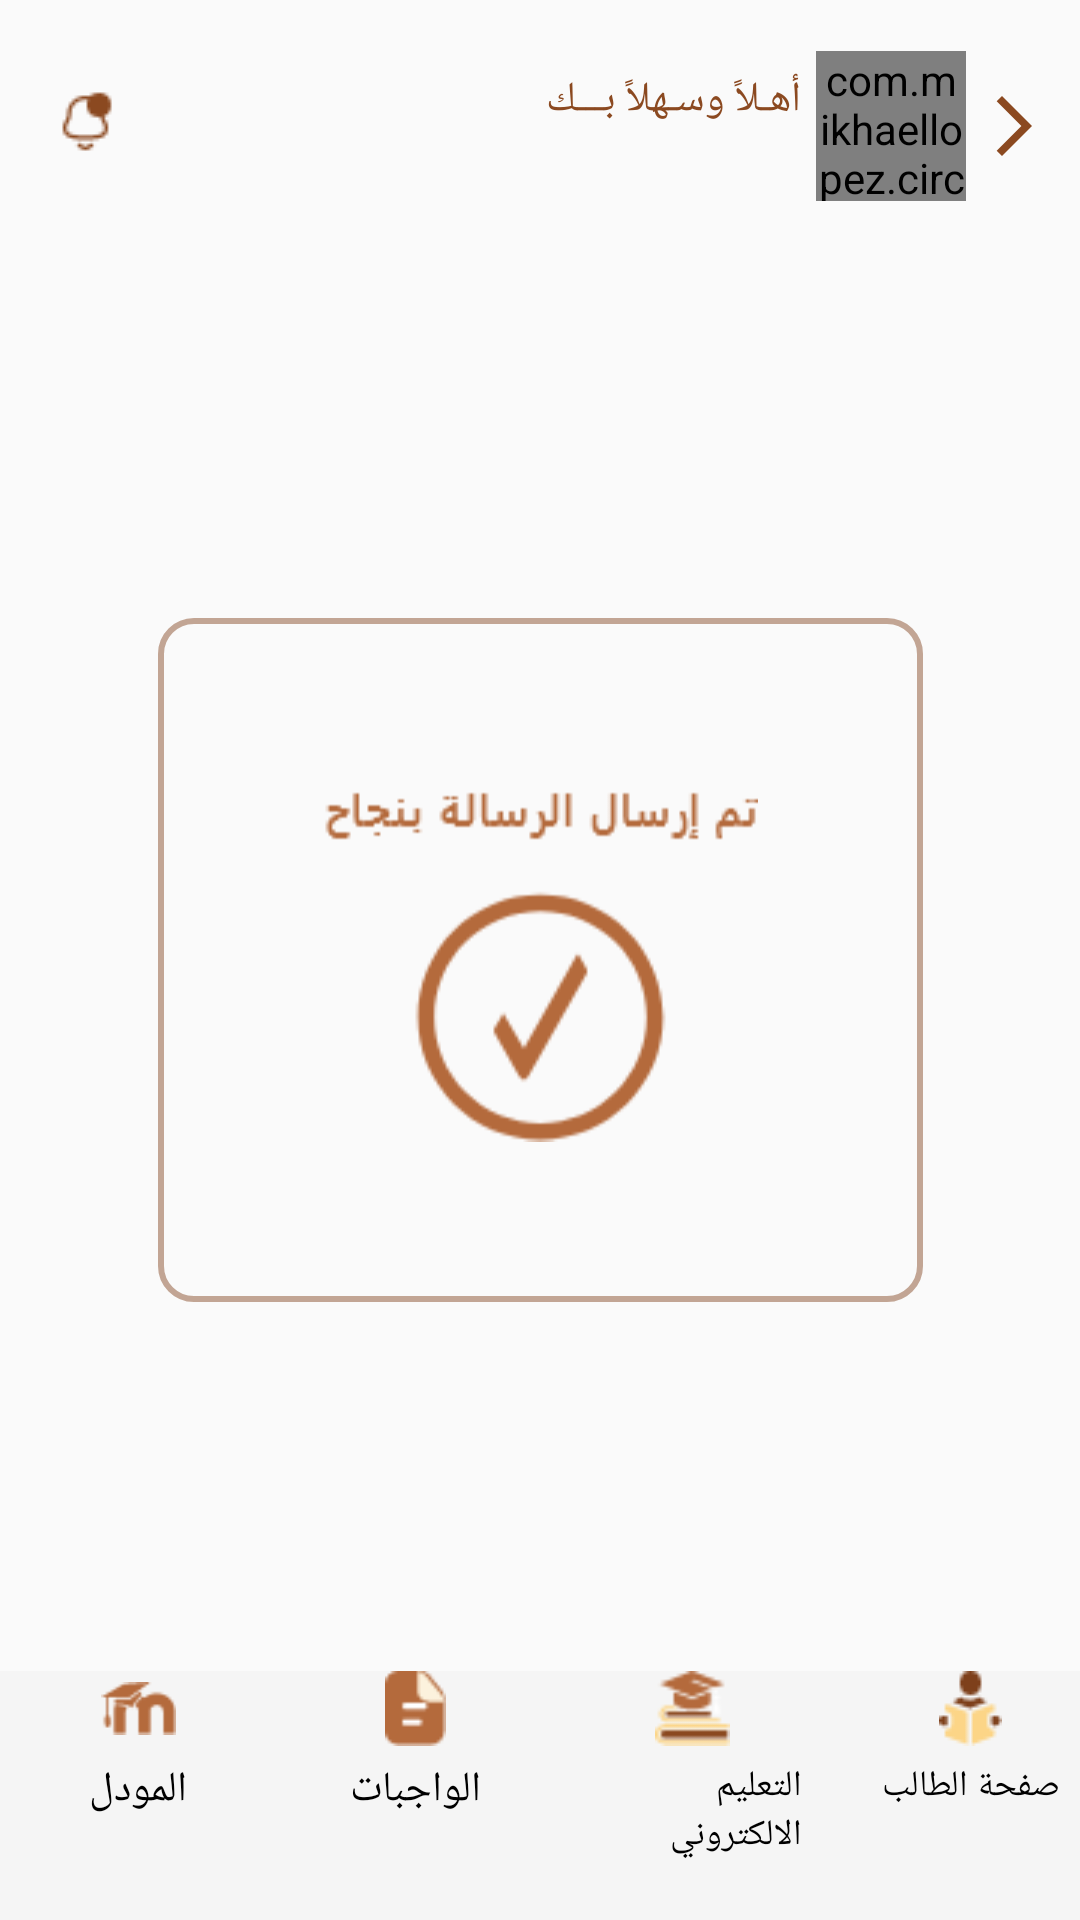

Icon bounding boxes for this 1080w x 1920h phone screenshot, format (x1, y1, x2, y2):
arrow forward: (997, 96, 1032, 156)
notifaction: (62, 92, 112, 151)
